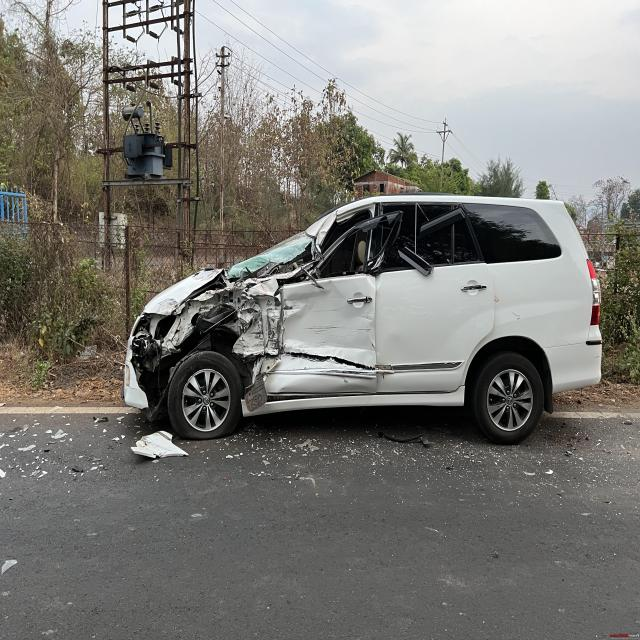accident: (122, 193, 601, 443)
